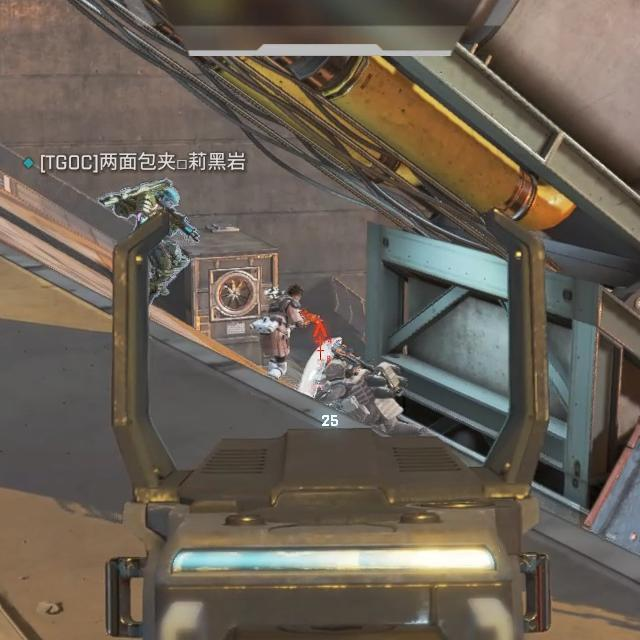avatar: (132, 181, 186, 305), (258, 283, 307, 381)
